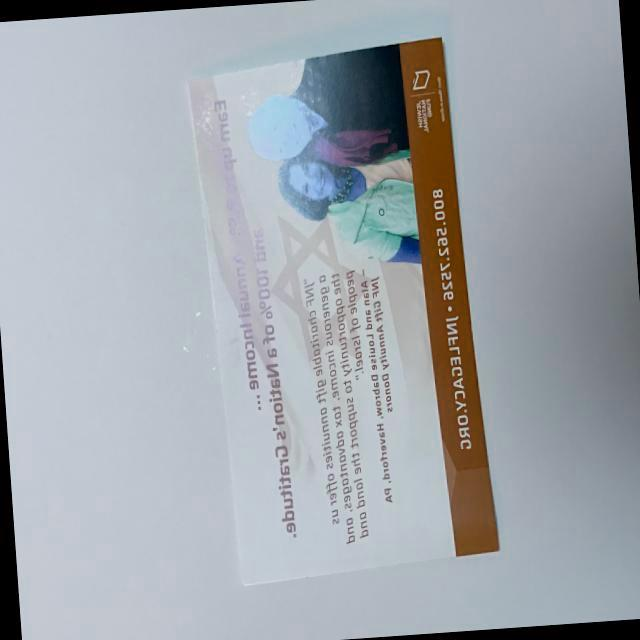paper: (182, 32, 503, 584)
